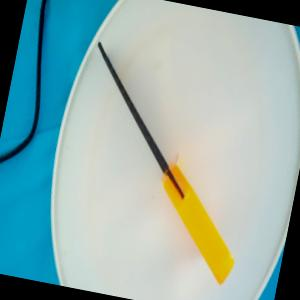serrote: (54, 33, 272, 286)
